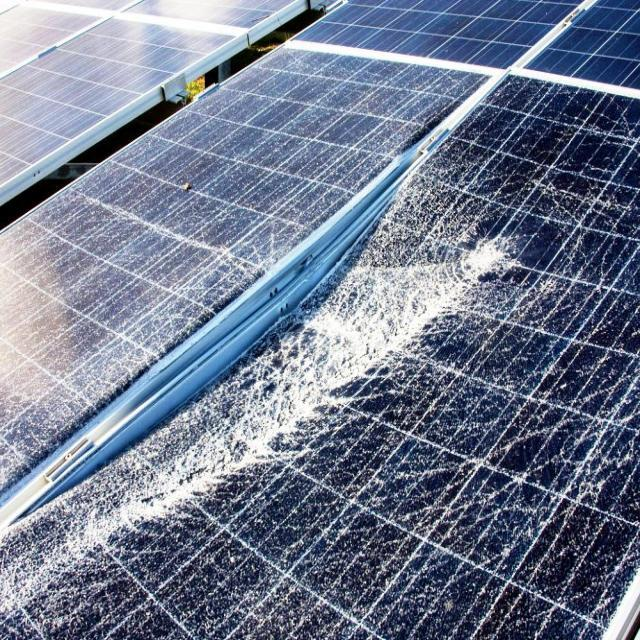faulty: (0, 71, 638, 640), (2, 44, 498, 512)
